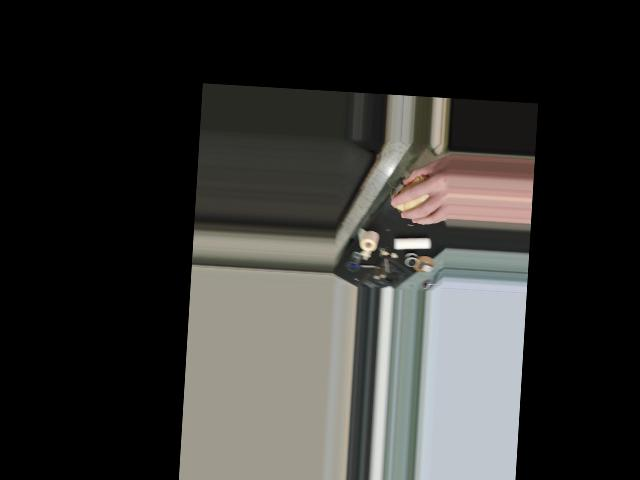onion: (391, 172, 438, 216)
